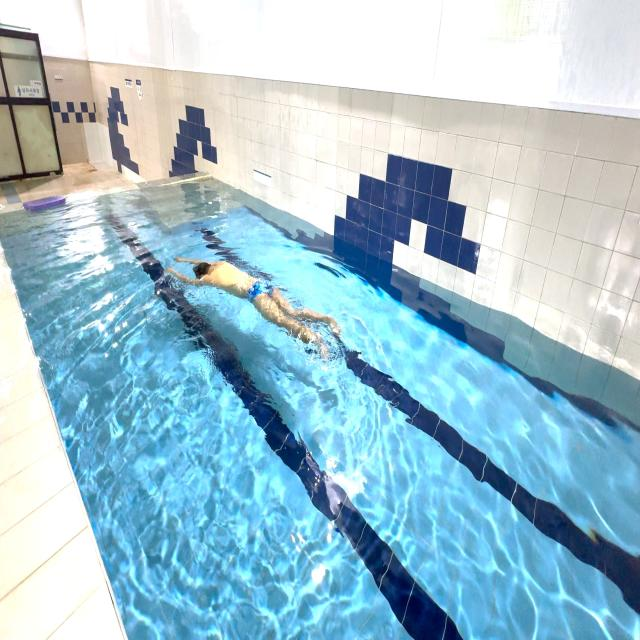Swimming: (158, 222, 348, 370)
